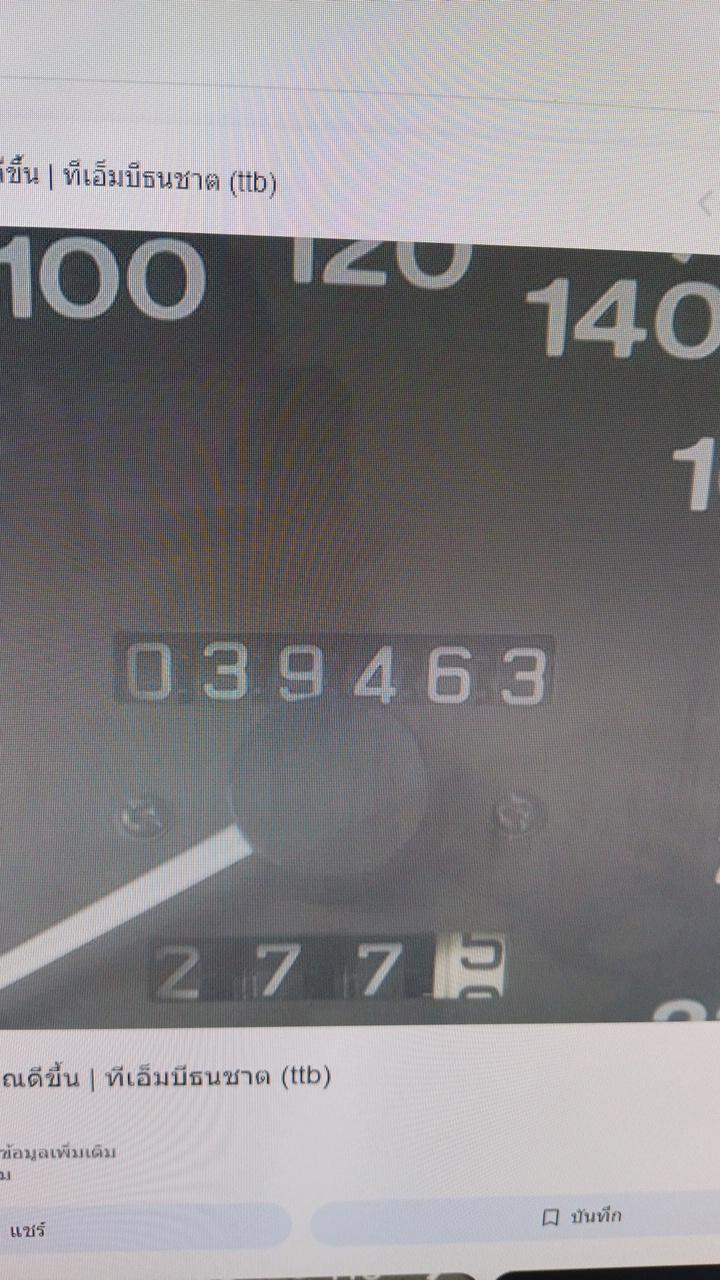0: (126, 640, 173, 702)
3: (497, 645, 546, 710), (202, 640, 249, 702)
4: (354, 642, 399, 706)
6: (426, 645, 473, 705)
9: (278, 645, 326, 701)
odometer: (110, 629, 556, 713)
